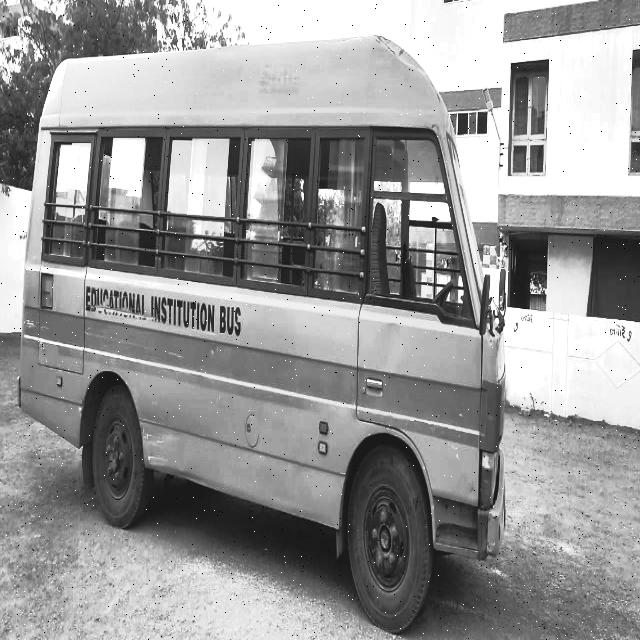Bus: (14, 21, 526, 612)
